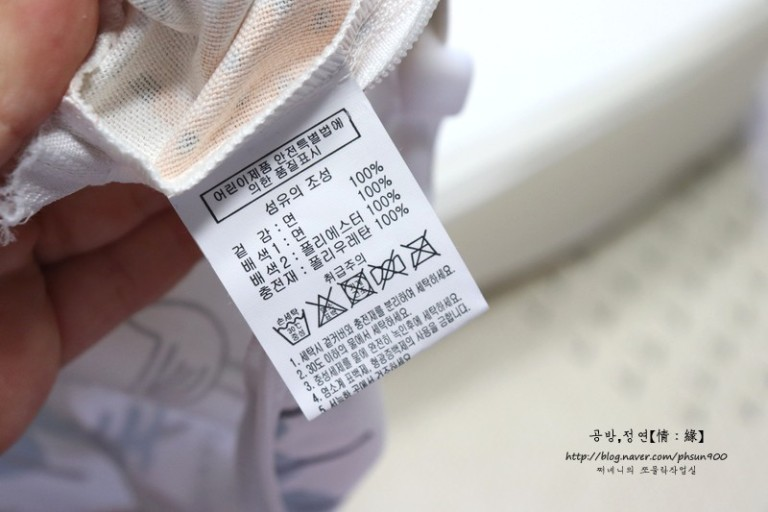KR_hand_wash_30_neutral: (271, 306, 312, 346)
KR_no_chlorine_bleach: (308, 287, 347, 328)
KR_no_iron: (405, 235, 441, 268)
KR_no_tumble_dry: (338, 273, 376, 305)
KR_no_wring: (371, 253, 406, 289)
